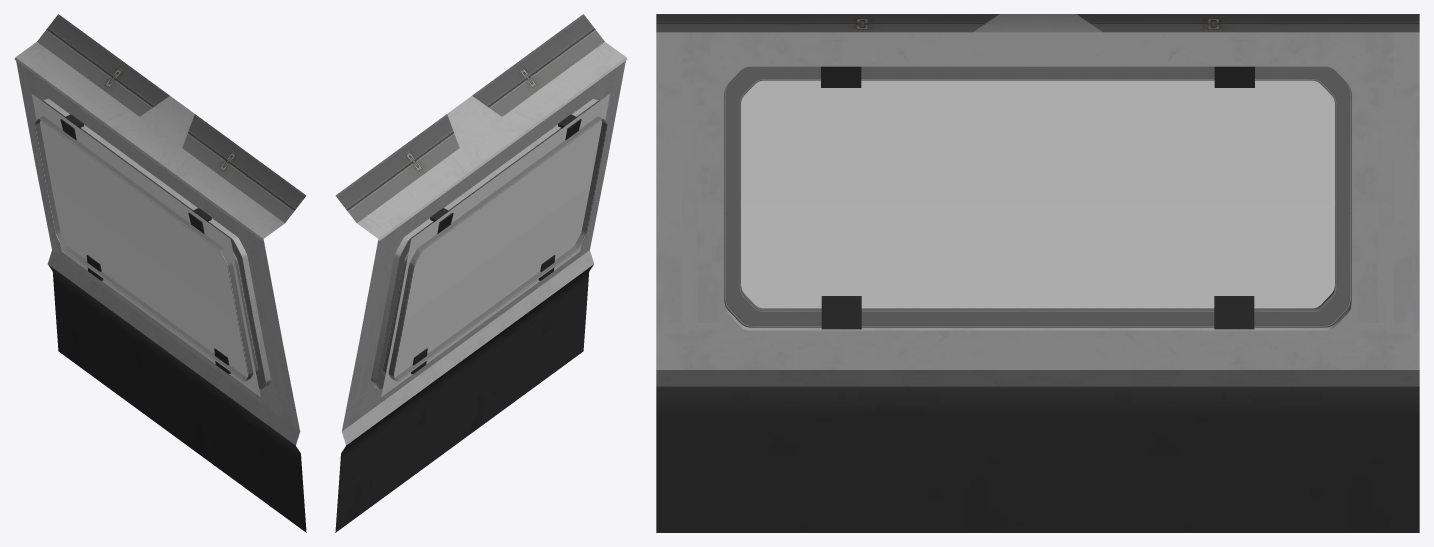
The model's file is WallAstra_Straight_Window.glb.
3 renders of one model, left to right at view 1: azimuth 30°, elevation 25°; view 2: azimuth 150°, elevation 25°; view 3: azimuth 270°, elevation 25°, orthographic. The views are drawn at different scales.
Visible parts, largest first — view 1: WallAstra_Straight_Window; view 2: WallAstra_Straight_Window; view 3: WallAstra_Straight_Window.
Boxes of the visible parts, left/top/right/bottom form: WallAstra_Straight_Window: left=14, top=14, right=306, bottom=532; WallAstra_Straight_Window: left=335, top=14, right=627, bottom=532; WallAstra_Straight_Window: left=656, top=14, right=1419, bottom=532.
Size of the model in its own units: 0.4976 by 3 by 4.
Materials: 4 (3 with a texture image).
